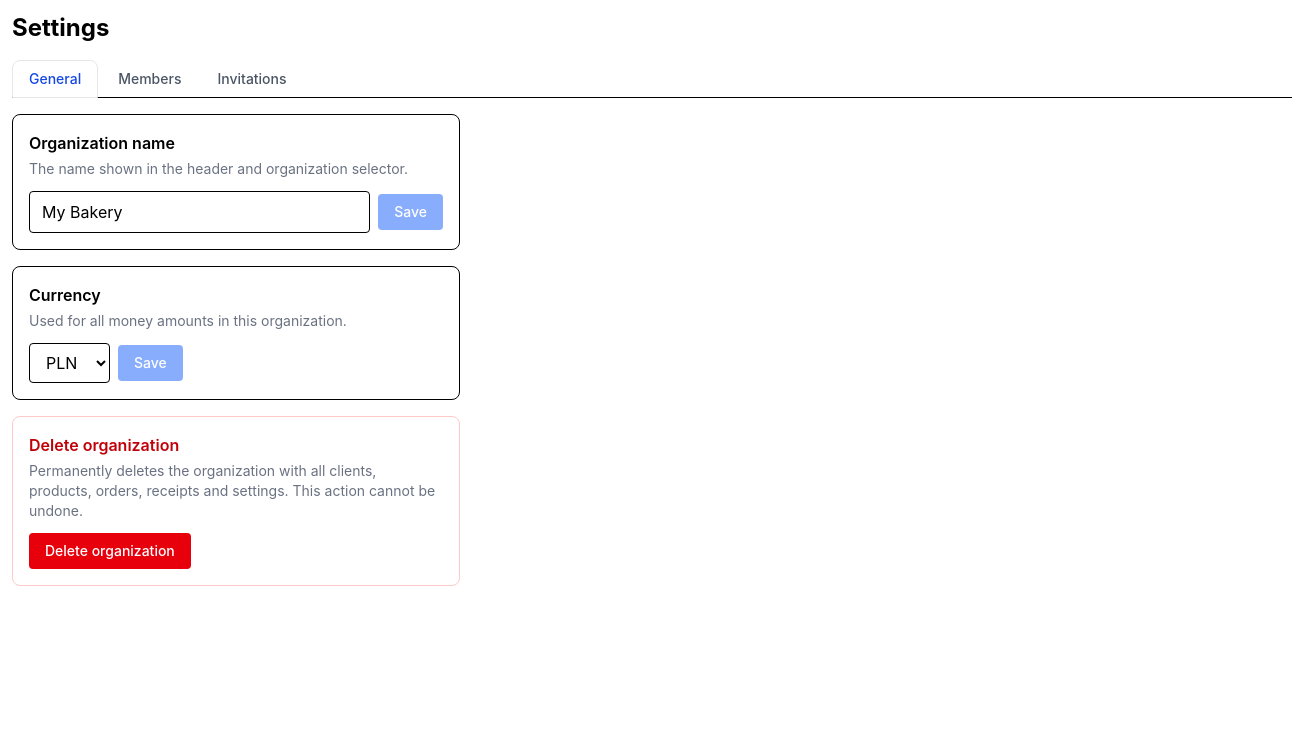
OrgSettingsPage › shows removal error via role=alert
Click the tab "Members".
click(150, 78)  # box x1=102 y1=60 x2=198 y2=97
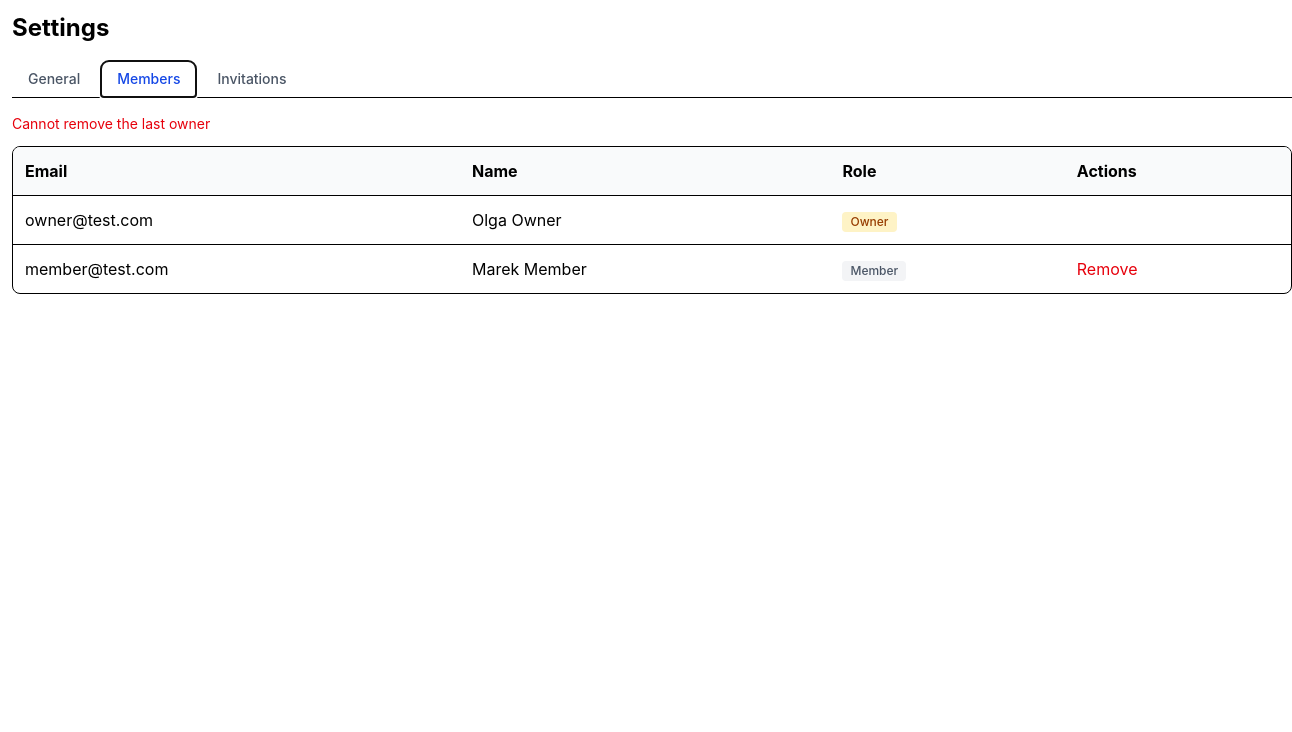
Expected: the message reads "Cannot remove the last owner", x1=12 y1=115 x2=210 y2=132
